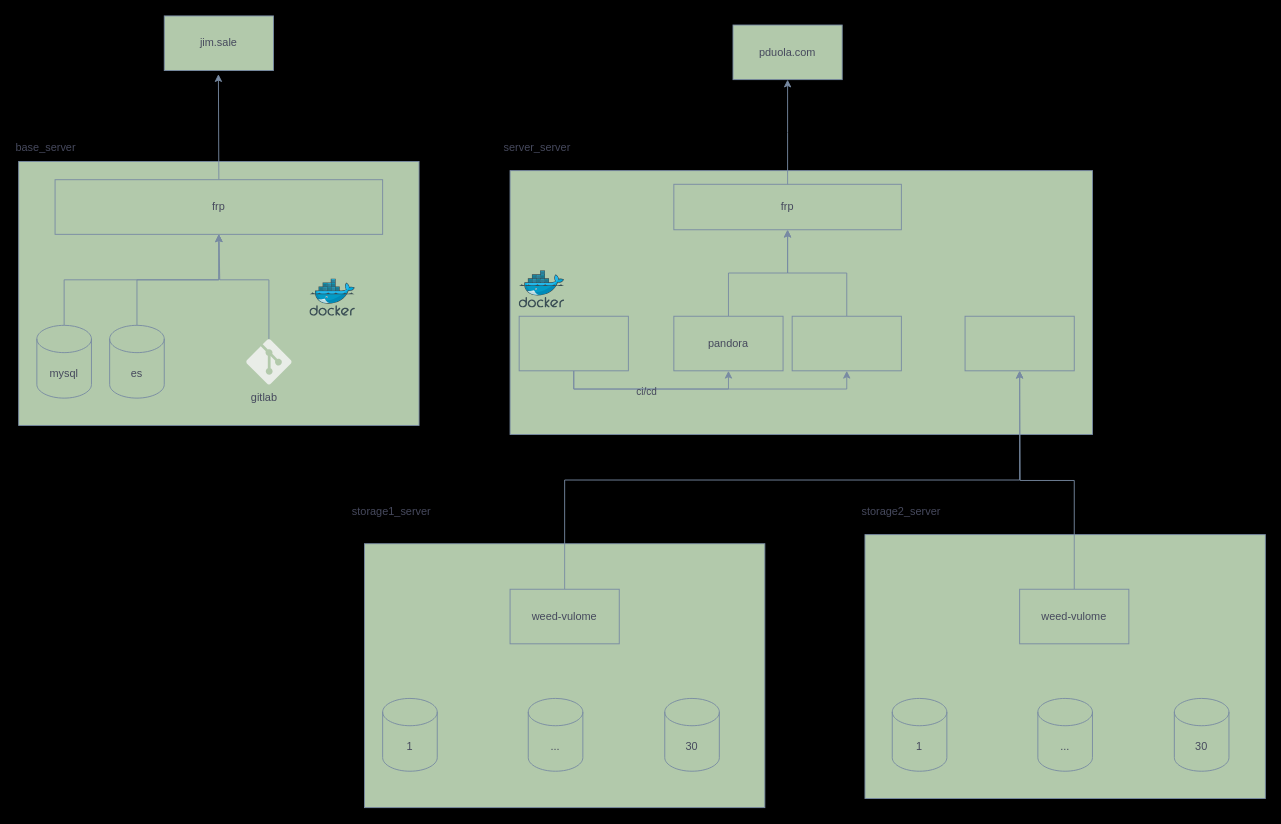
Image size: 1281x824. Some labels were removed from this diagram. Here are the shapes that lost their labels. From the top down, the centre of each, then its label:
[573,343]: gitlab-ci
[846,343]: pandora-web
[1019,343]: weed-master
